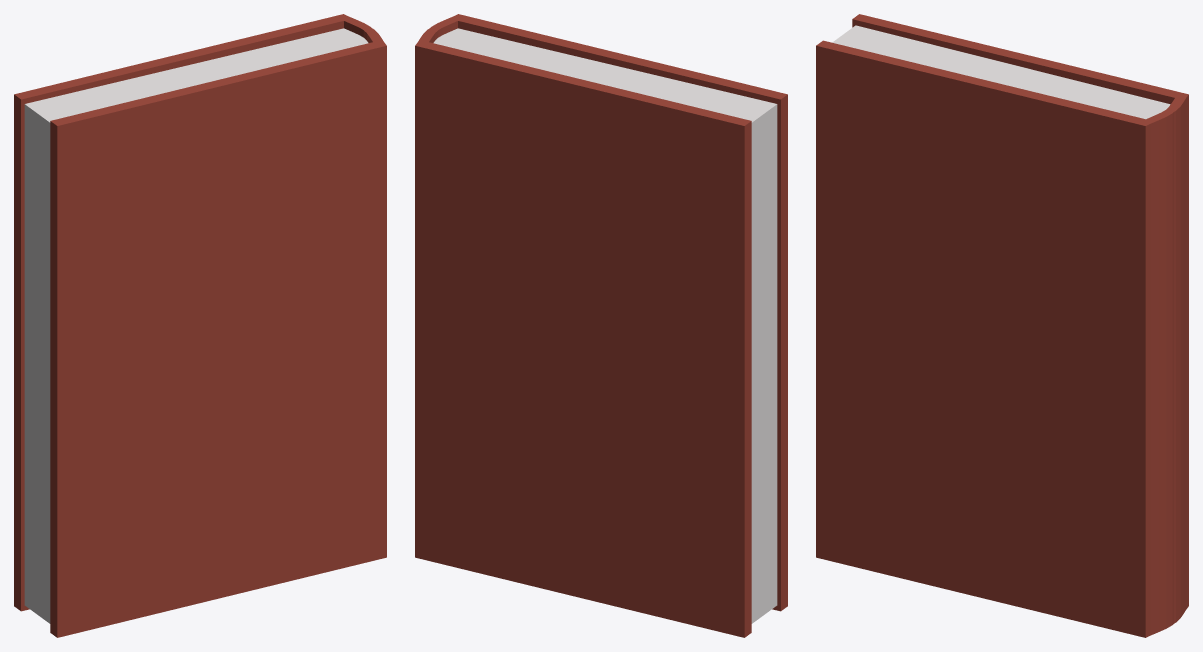
Rendered from Book.fbx.
3 views of the same model, side by side, from view 1: azimuth 30°, elevation 25°; view 2: azimuth 150°, elevation 25°; view 3: azimuth 330°, elevation 25° (orthographic).
Parts seen in each view (by area): view 1: Book; view 2: Book; view 3: Book.
Part boxes in pixels (x1,y1,x2,y2): Book: (14, 14, 386, 637); Book: (415, 14, 787, 637); Book: (816, 14, 1188, 637).
Bounding box in the file's own units: 57.03 × 82.87 × 12.71.
